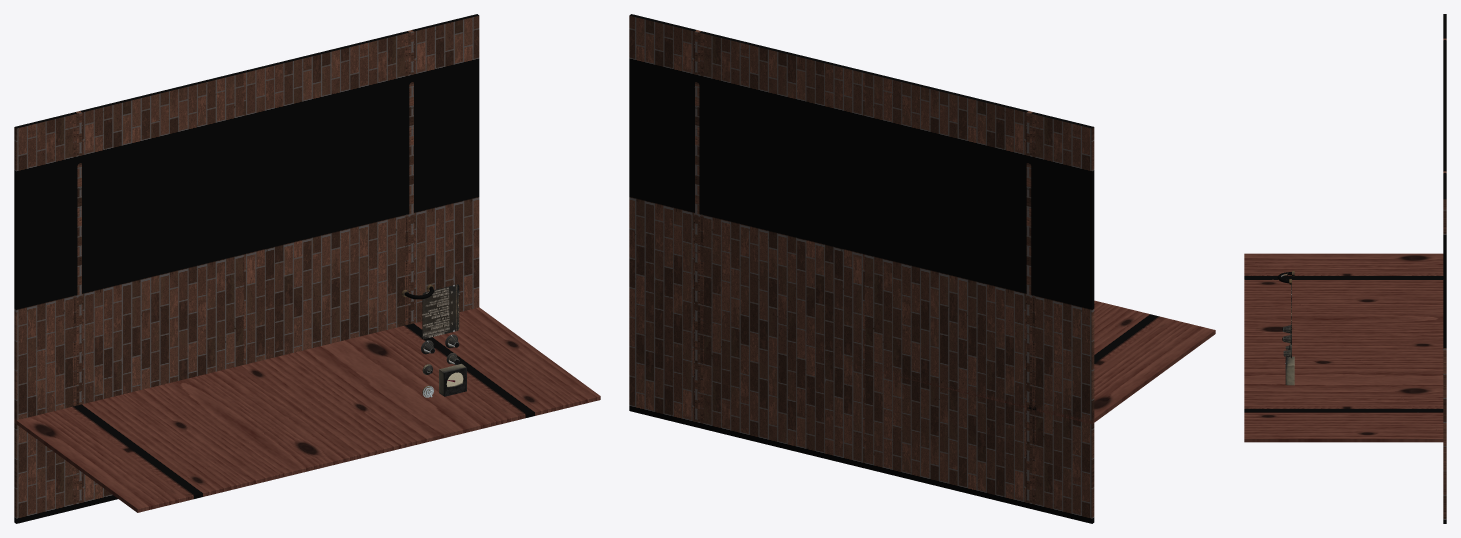
The model's file is НтоТелевизор.fbx.
The picture shows the model from 3 angles, left to right: view 1: azimuth 30°, elevation 25°; view 2: azimuth 150°, elevation 25°; view 3: azimuth 270°, elevation 25°; orthographic projection. The views are drawn at different scales.
Parts seen in each view (by area): view 1: Стена, Стол, Памятка, Cube.019_Buttons_0; view 2: Стена, Стол; view 3: Стол, Стена, Cube.019_Buttons_0.
Boxes of the visible parts, x1,y1,x2,y2 form: Стена: (14,14,479,523); Стол: (14,307,600,512); Памятка: (422,284,459,338); Cube.019_Buttons_0: (439,364,466,396); Стена: (629,14,1094,523); Стол: (755,300,1215,424); Стол: (1244,253,1446,442); Стена: (1443,14,1446,523); Cube.019_Buttons_0: (1285,356,1294,385).
Bounding box in the file's own units: 1562 × 1275 × 721.
